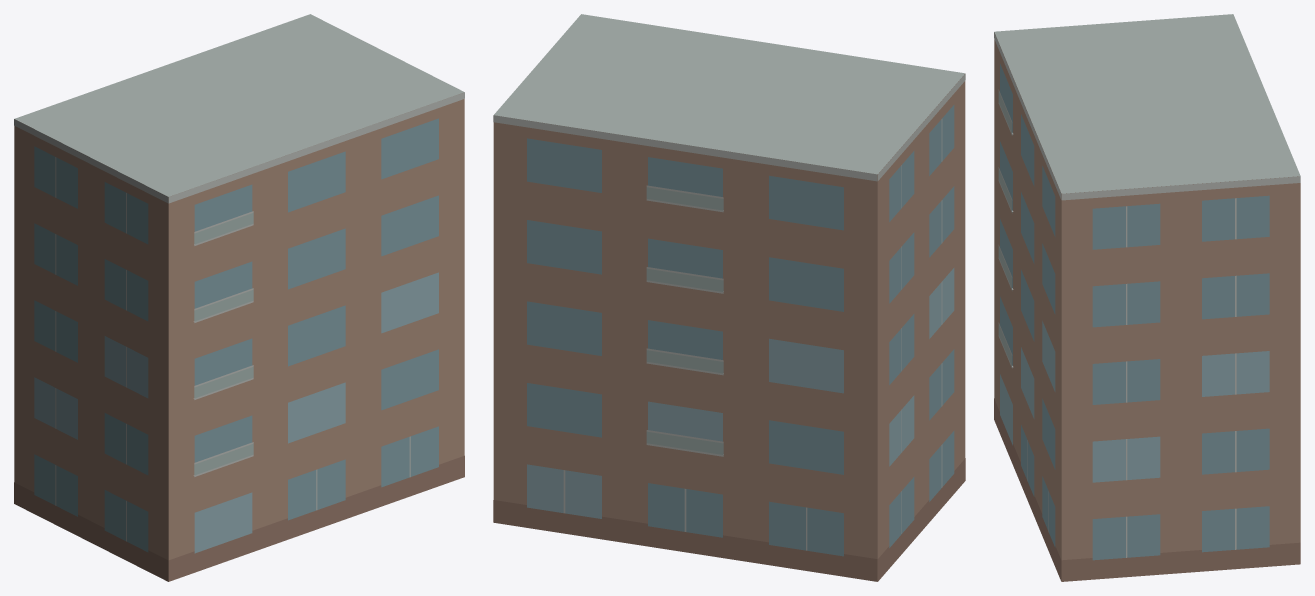
Rendered from survey-upis-32717202.glb.
The picture shows the model from 3 angles, left to right: view 1: azimuth 30°, elevation 25°; view 2: azimuth 150°, elevation 25°; view 3: azimuth 270°, elevation 25°; orthographic projection. The views are drawn at different scales.
Parts seen in each view (by area): view 1: survey-upis-32717202.tmp; view 2: survey-upis-32717202.tmp; view 3: survey-upis-32717202.tmp.
Part boxes in pixels (box(x1,y1,x2,y2)): survey-upis-32717202.tmp: box(14, 14, 464, 581); survey-upis-32717202.tmp: box(493, 14, 965, 581); survey-upis-32717202.tmp: box(994, 14, 1300, 581).
Size of the model in its own units: 14.02 by 14.1 by 10.1.
